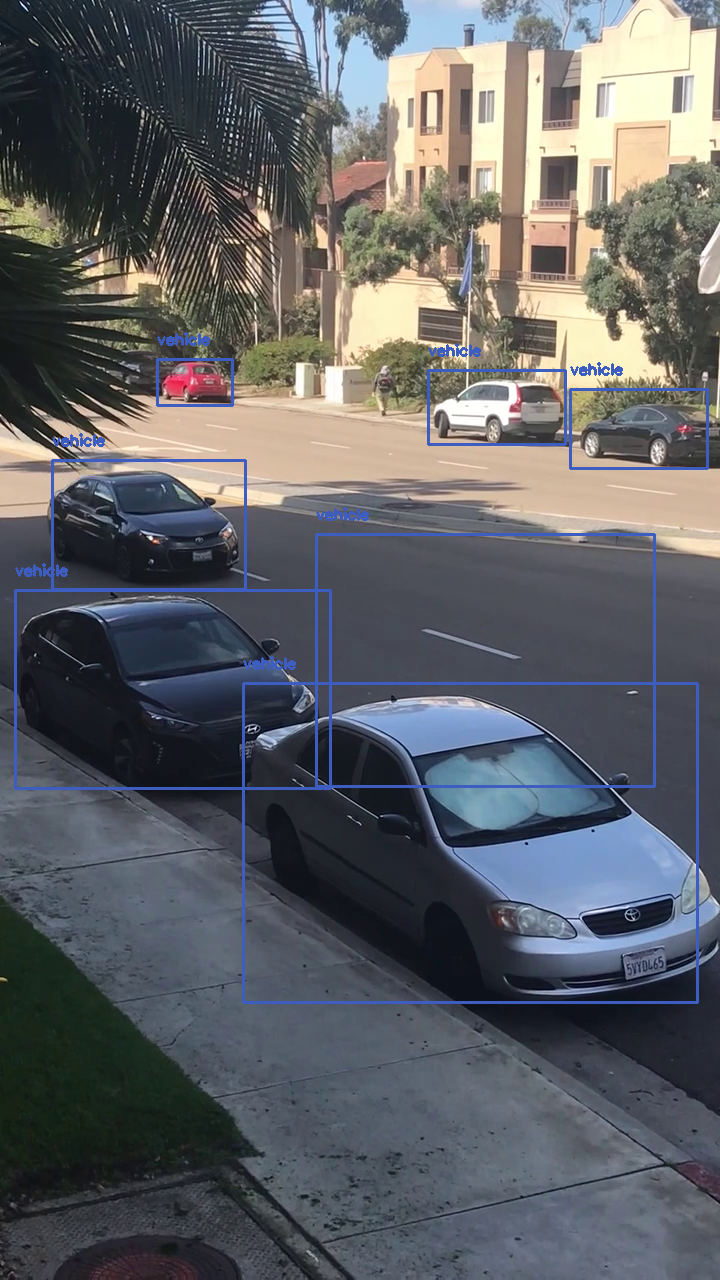vehicle: (243, 683, 697, 1002), (316, 534, 654, 786), (15, 590, 330, 788), (52, 460, 245, 589), (570, 389, 707, 468), (428, 370, 565, 444), (157, 359, 232, 405)
